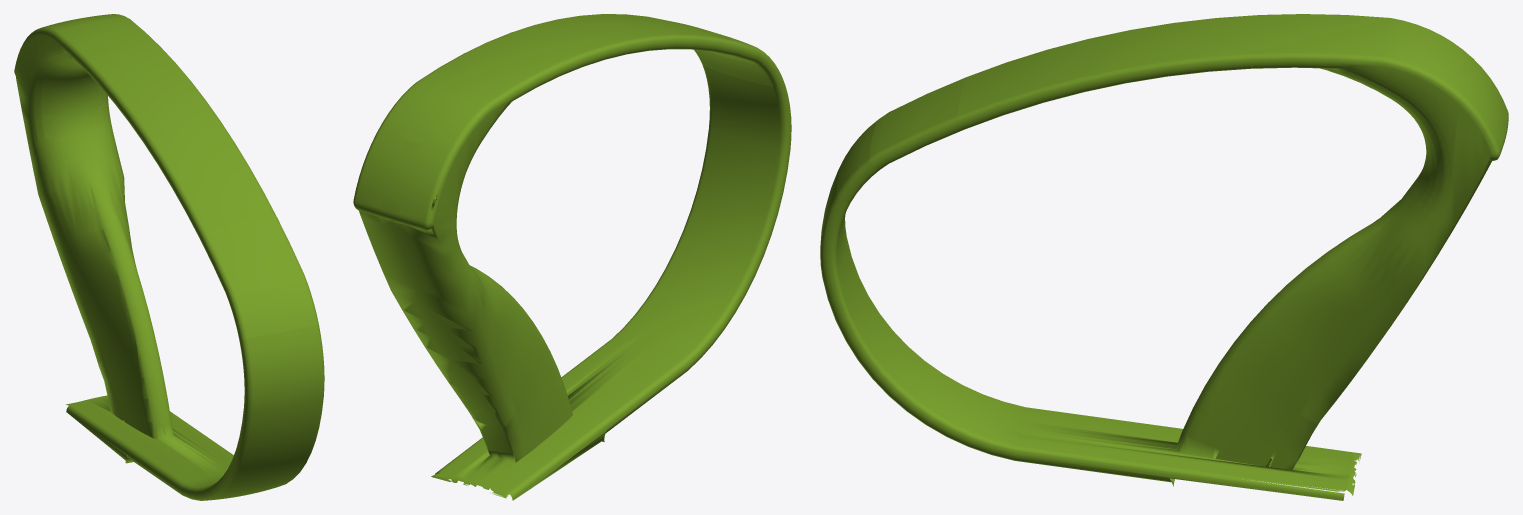
The picture shows the model from 3 angles, left to right: view 1: azimuth 30°, elevation 25°; view 2: azimuth 150°, elevation 25°; view 3: azimuth 270°, elevation 25°; orthographic projection. The views are drawn at different scales.
Size of the model in its own units: 0.1554 by 0.4608 by 0.6439.
